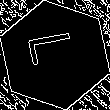L_E: (26, 35, 84, 75)
